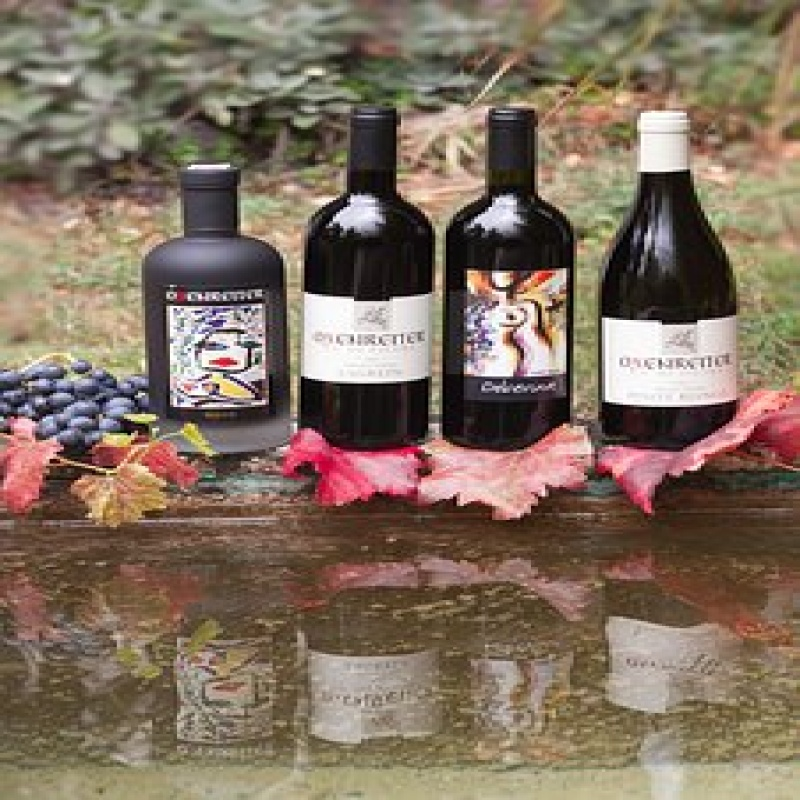wine: (599, 104, 742, 427), (139, 160, 295, 453), (309, 104, 433, 442), (448, 114, 573, 447)
